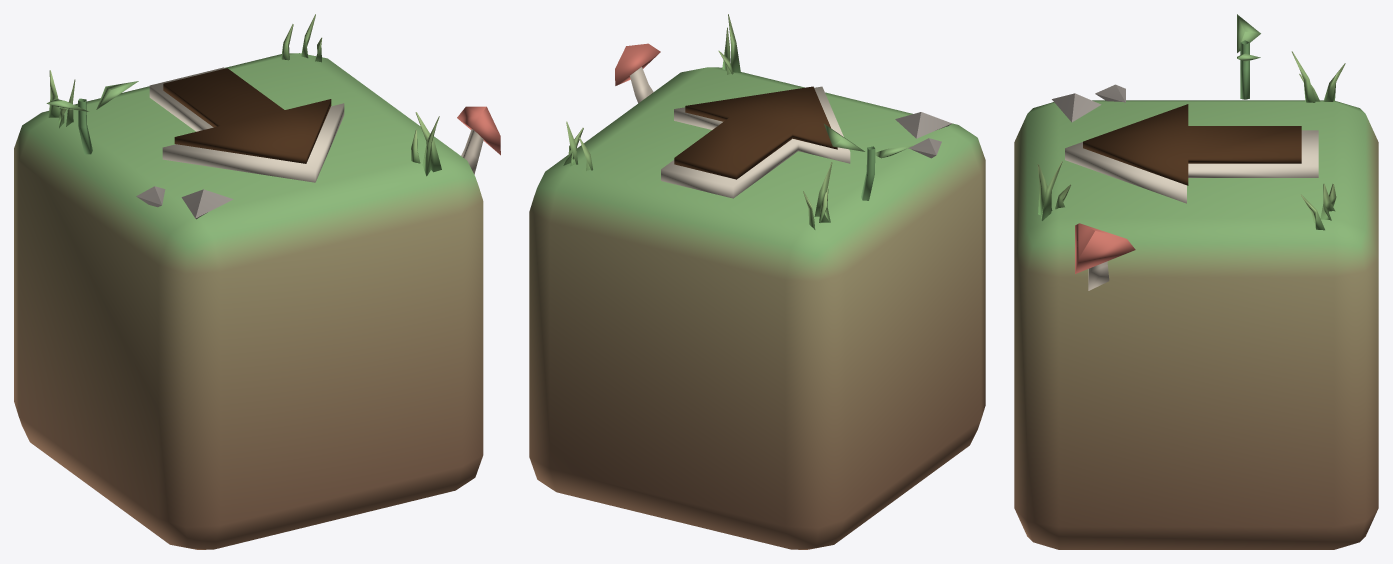
Rendered from toprak_lo.glb.
The picture shows the model from 3 angles, left to right: view 1: azimuth 30°, elevation 25°; view 2: azimuth 150°, elevation 25°; view 3: azimuth 270°, elevation 25°; orthographic projection. The views are drawn at different scales.
Parts seen in each view (by area): view 1: toprak_lo; view 2: toprak_lo; view 3: toprak_lo.
Part boxes in pixels (x1,y1,x2,y2): toprak_lo: (14, 14, 500, 549); toprak_lo: (529, 14, 985, 549); toprak_lo: (1014, 14, 1378, 549).
Bounding box in the file's own units: 1.05 × 1.06 × 0.9001.
